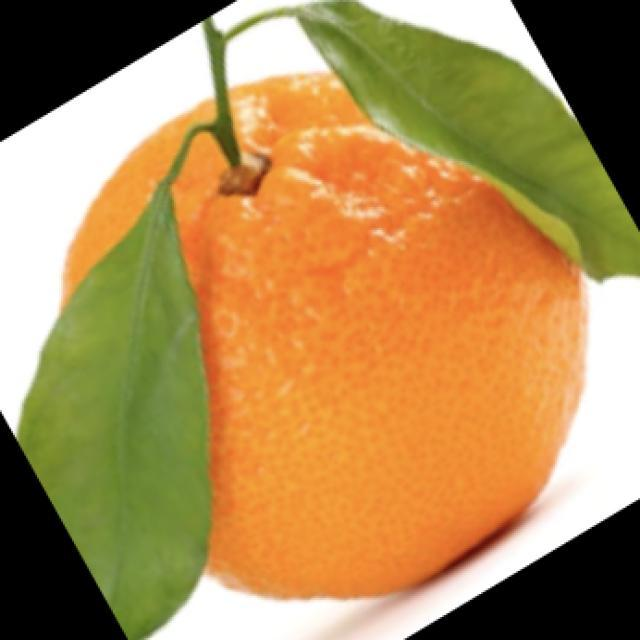matang: (175, 73, 586, 597), (64, 101, 212, 301)
